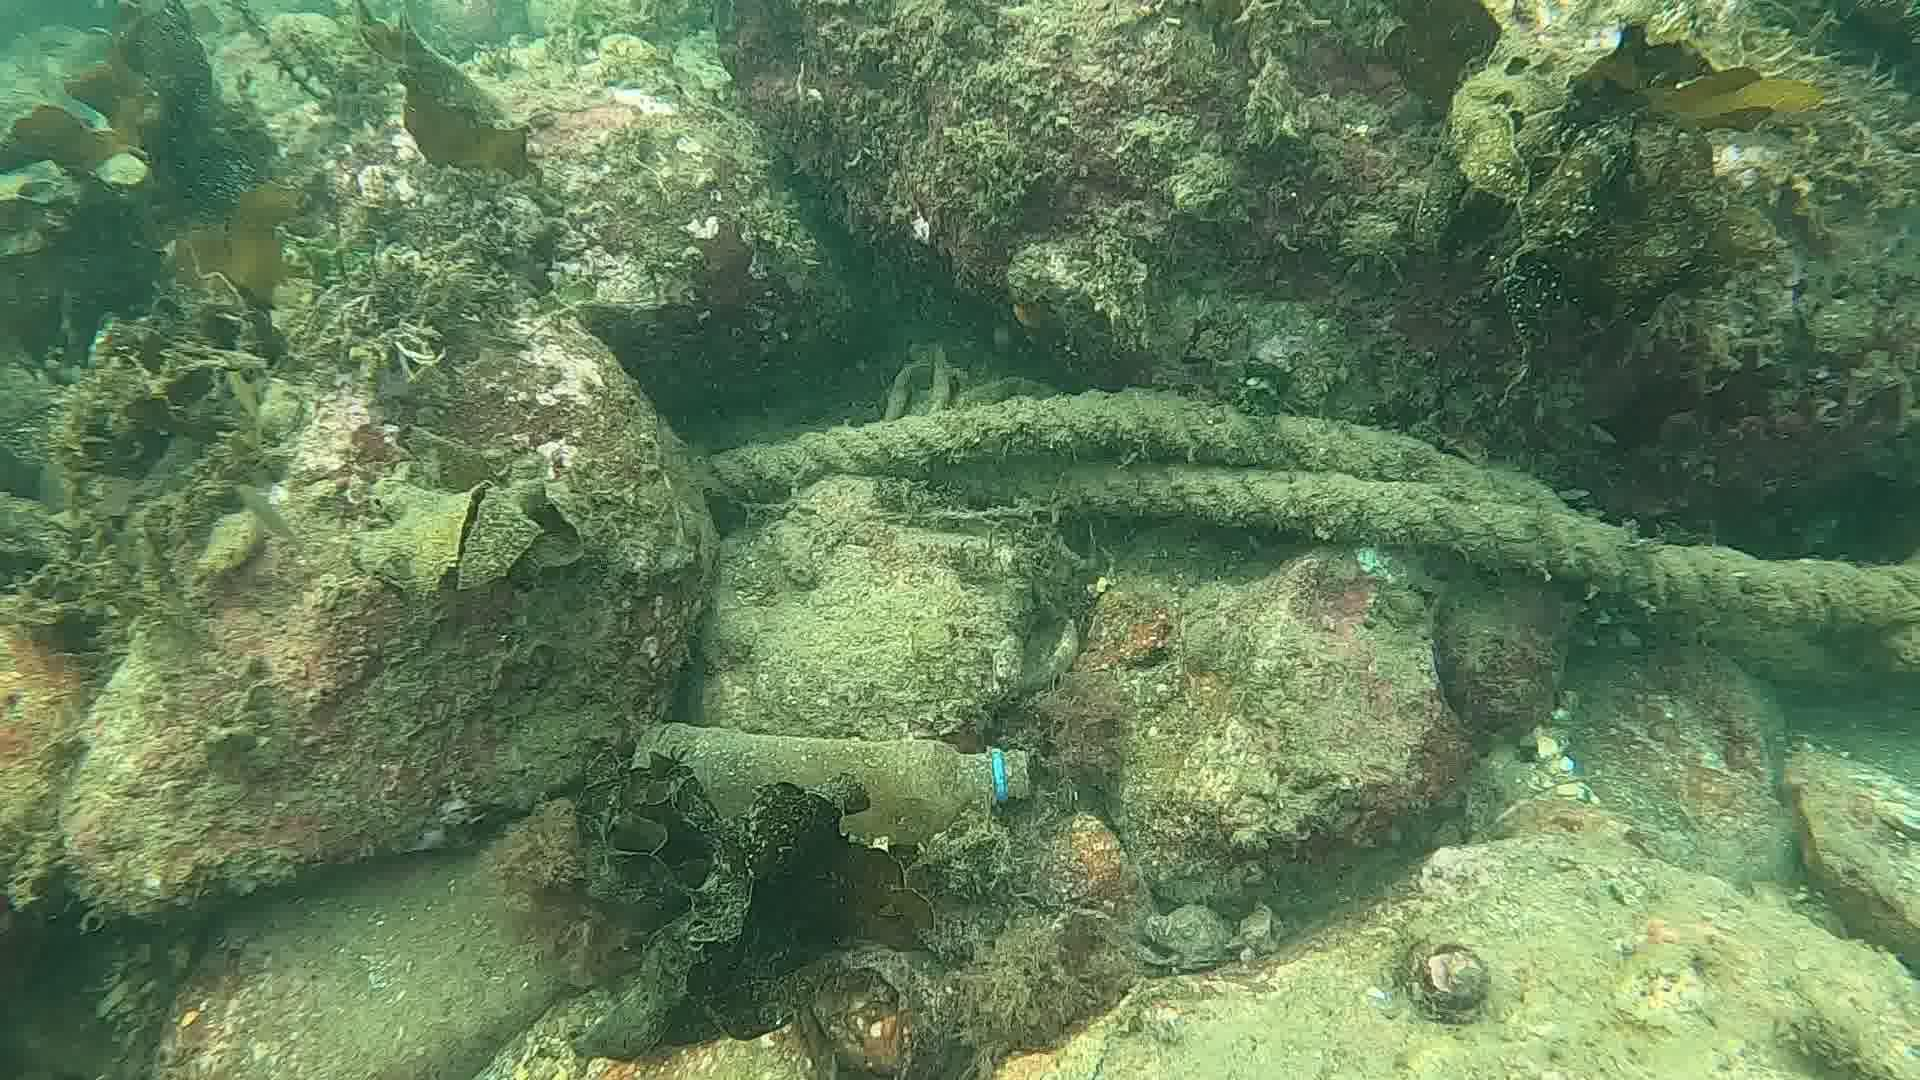bundle of ropes: (694, 389, 1920, 659)
